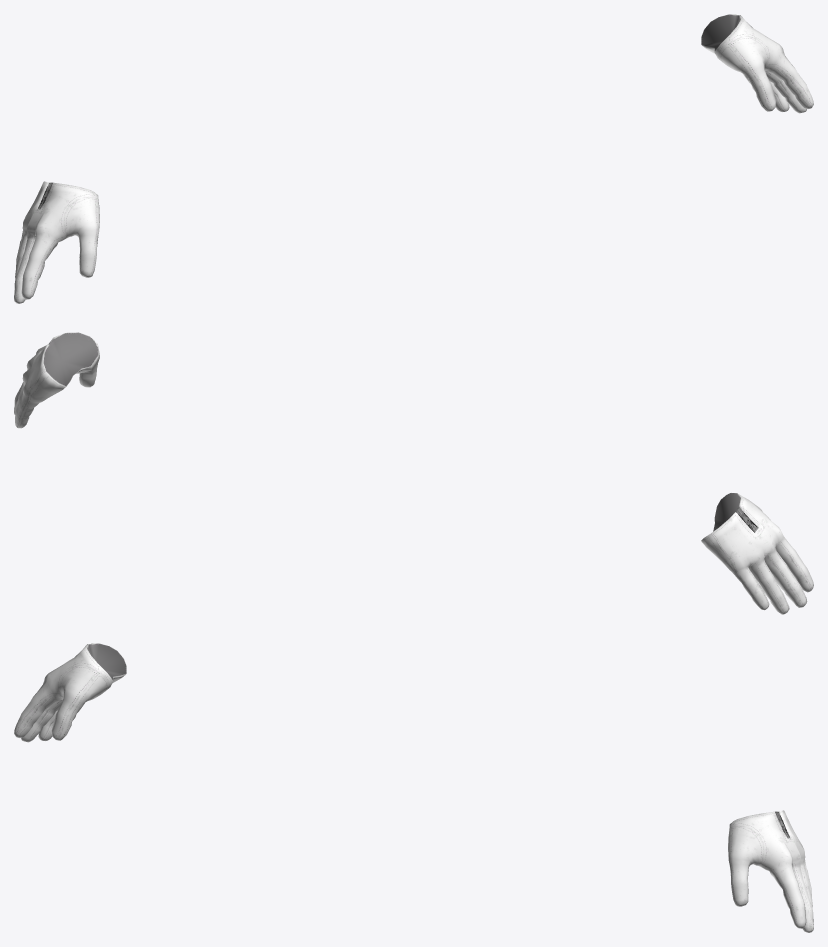
File: SurvivorMale_Hands_Gloves_Bodysuit_Zipper_LOD0.glb
3 renders of one model, top to bottom at view 1: azimuth 30°, elevation 25°; view 2: azimuth 150°, elevation 25°; view 3: azimuth 330°, elevation 25°, orthographic.
Visible parts, largest first — view 1: Hoodie; view 2: Hoodie; view 3: Hoodie.
Boxes of the visible parts, left/top/right/bottom form: Hoodie: left=14, top=14, right=813, bottom=303; Hoodie: left=14, top=332, right=813, bottom=614; Hoodie: left=14, top=643, right=813, bottom=932.
Size of the model in its own units: 1.34 by 0.1686 by 0.157.
1 material, 1 textured.
